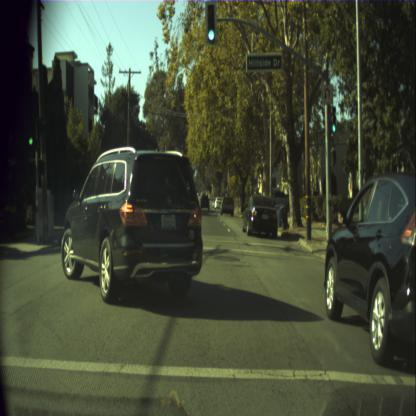Green: (205, 1, 216, 43), (28, 118, 35, 147), (330, 106, 336, 133)
